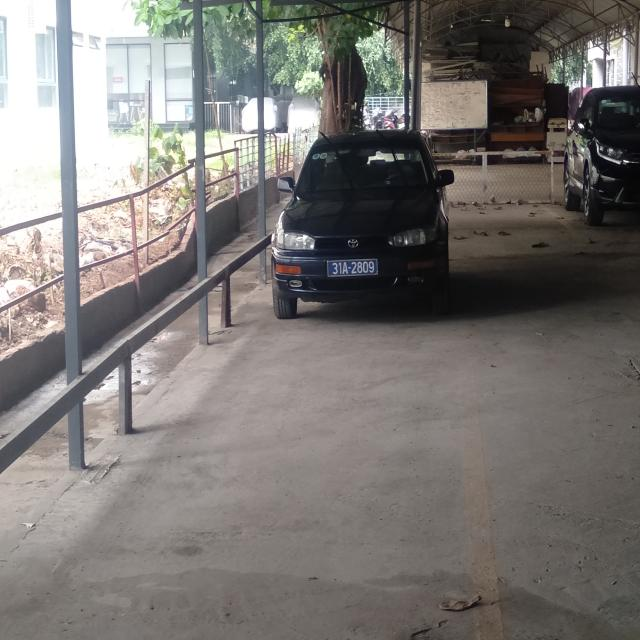bien_xanh: (326, 259, 379, 279)
